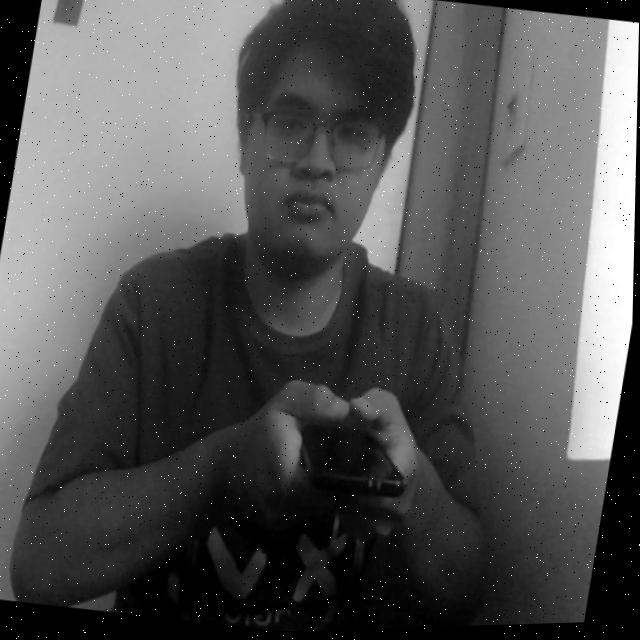phone: (265, 371, 430, 533)
